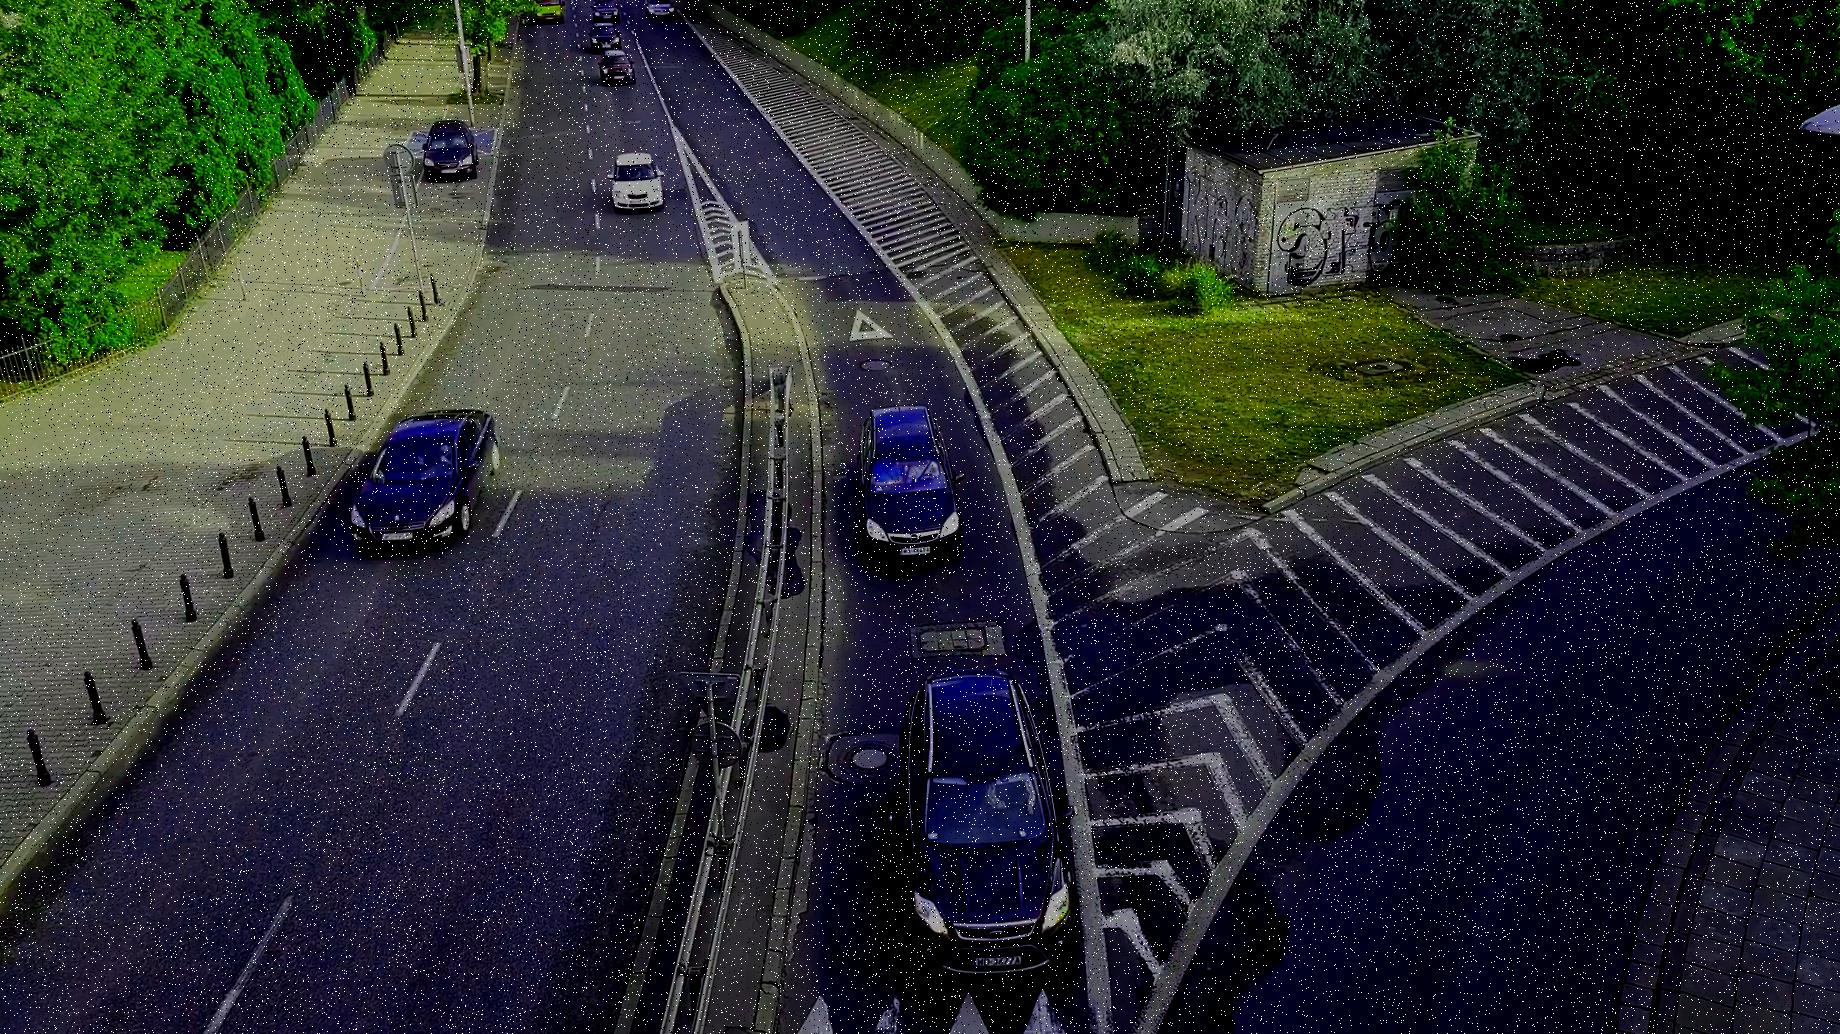car: (900, 670, 1066, 969), (346, 404, 496, 557), (855, 398, 961, 572), (416, 111, 483, 183), (611, 146, 665, 209), (598, 46, 637, 85)
